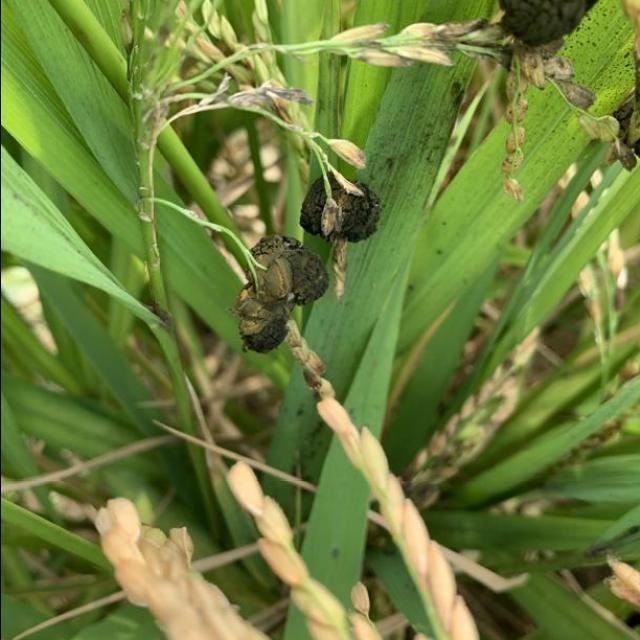Leaf_Scald: (236, 234, 332, 352), (297, 166, 384, 244), (497, 0, 601, 55), (615, 61, 640, 161)
